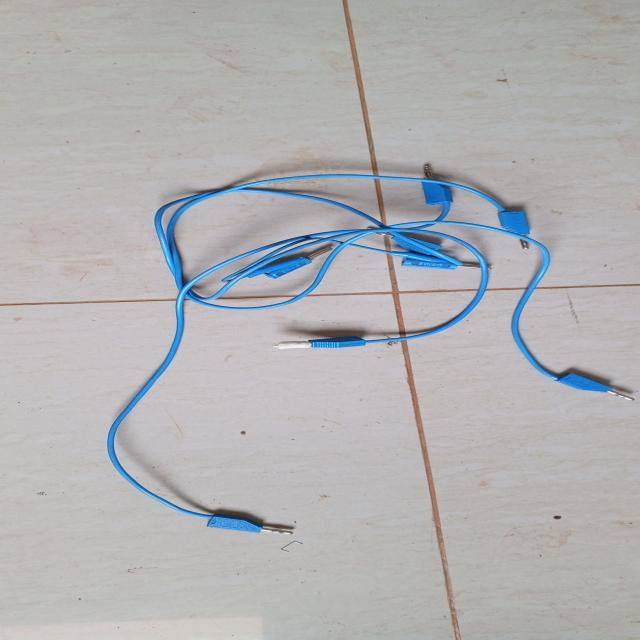BNC Cable: (109, 146, 638, 543)
